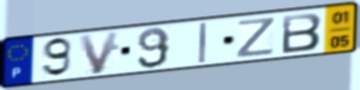9: (135, 26, 171, 71), (39, 37, 74, 79)
B: (280, 11, 324, 55)
I: (197, 21, 209, 65)
V: (76, 29, 122, 76)
Z: (234, 15, 278, 59)
